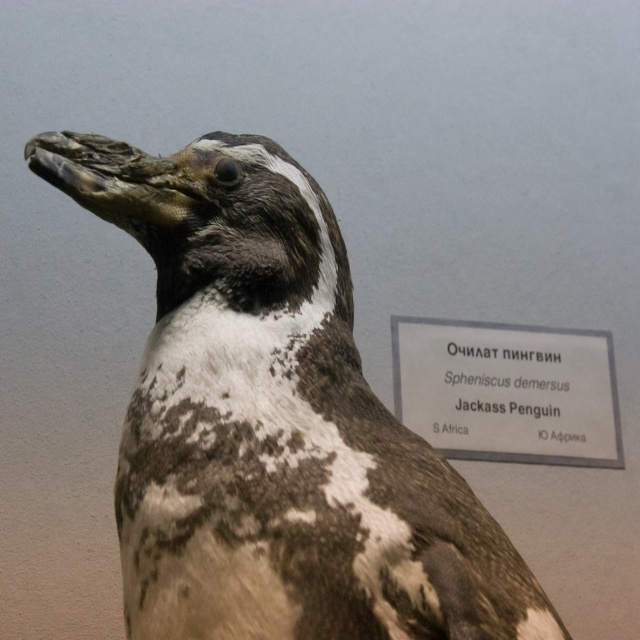Penguin: (29, 133, 572, 639)
